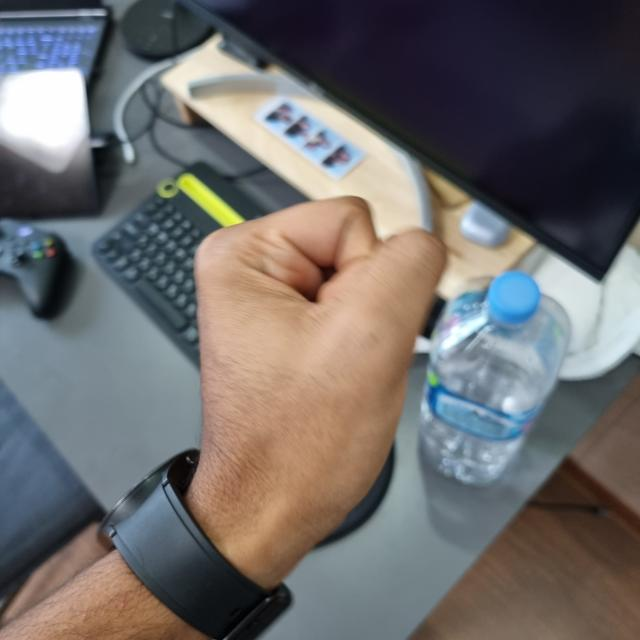Rock: (191, 201, 444, 574)
